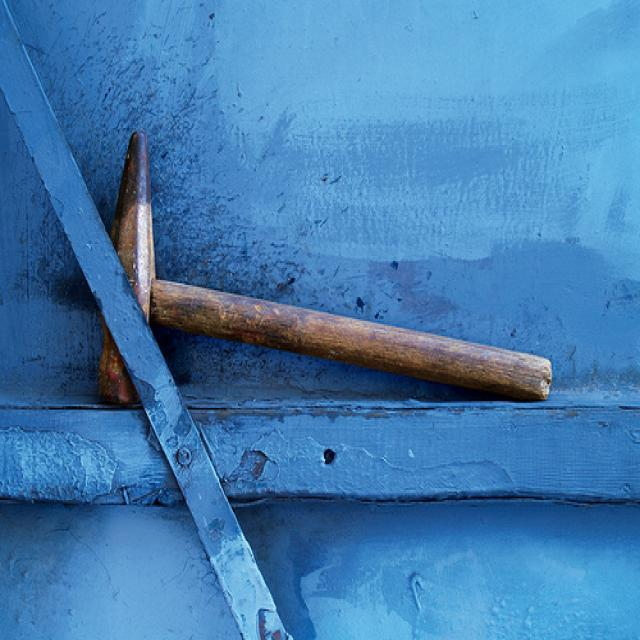hammer: (71, 120, 564, 438)
